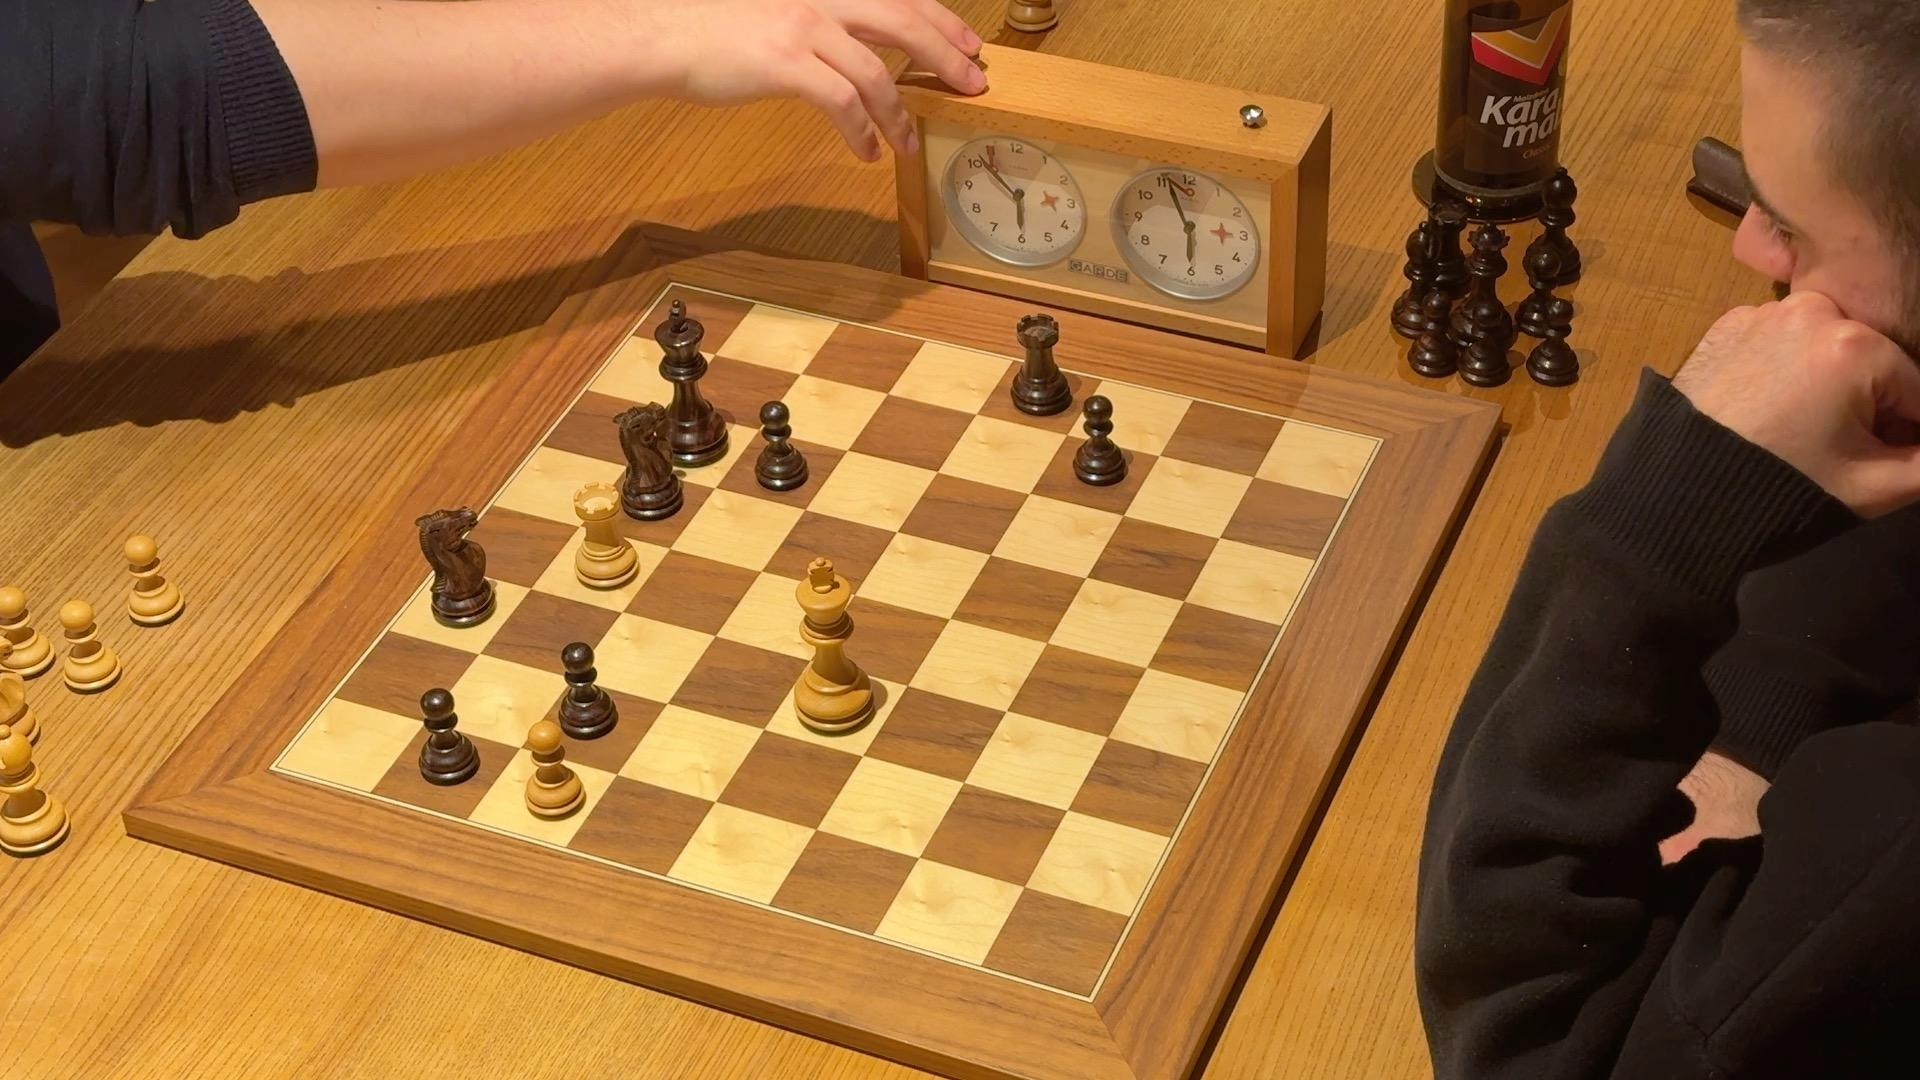Black King: (646, 294, 731, 468)
Black Knight: (409, 500, 500, 637), (609, 394, 686, 529)
Black Pawn: (550, 638, 616, 746), (415, 684, 483, 789), (1069, 393, 1129, 491), (748, 401, 807, 495)
Black Rook: (998, 309, 1077, 425)
White King: (789, 556, 881, 741)
White Pawn: (516, 720, 589, 827)
White Rook: (563, 476, 642, 597)
